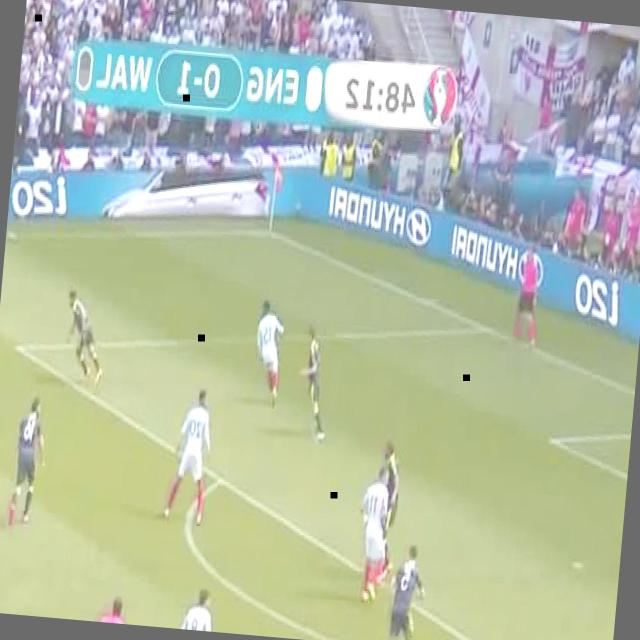player-white: (163, 386, 215, 524), (354, 464, 395, 606), (8, 398, 50, 528), (382, 541, 429, 640), (62, 288, 110, 384), (296, 327, 336, 441), (371, 441, 404, 571), (251, 301, 289, 407), (514, 250, 543, 346), (167, 584, 217, 632), (85, 594, 128, 624)
